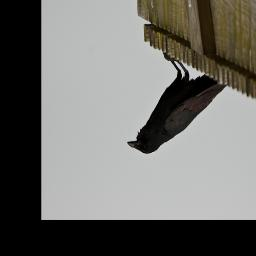Crow: (127, 51, 228, 156)
